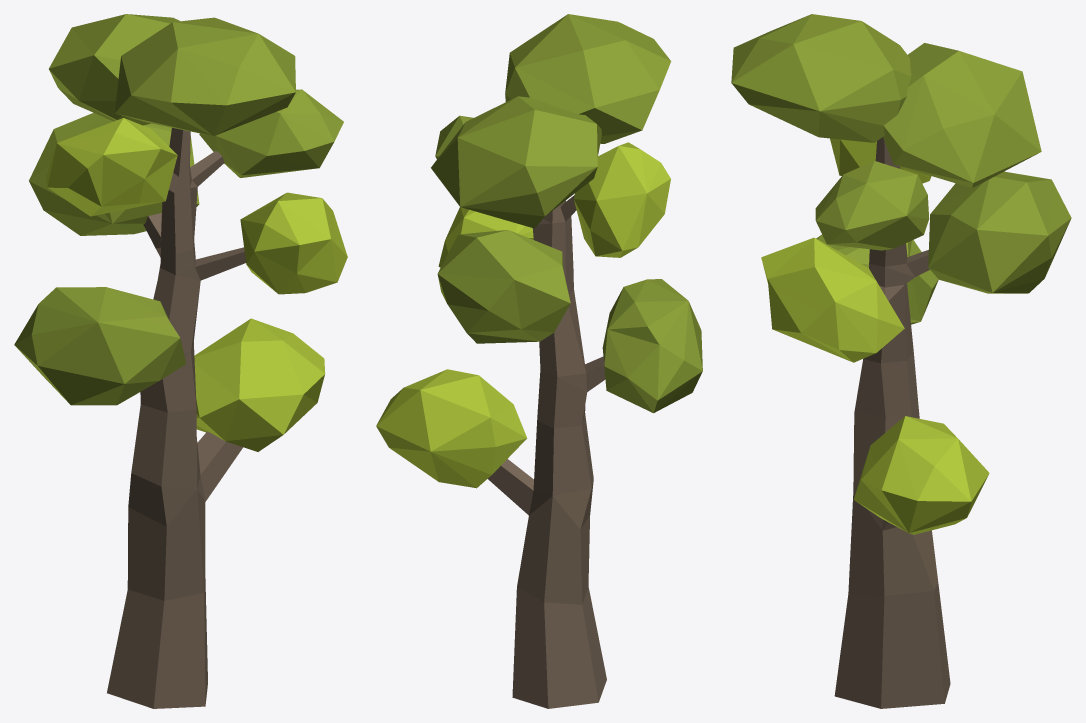
The model's file is aga1c.fbx.
3 renders of one model, left to right at view 1: azimuth 30°, elevation 25°; view 2: azimuth 150°, elevation 25°; view 3: azimuth 270°, elevation 25°, orthographic. The views are drawn at different scales.
Parts seen in each view (by area): view 1: uzun agac; view 2: uzun agac; view 3: uzun agac.
Boxes of the visible parts, x1,y1,x2,y2 form: uzun agac: (14,14,347,708); uzun agac: (376,14,702,708); uzun agac: (731,14,1071,708).
Bounding box in the file's own units: 165 × 344 × 159.
Materials: 1 (1 with a texture image).
